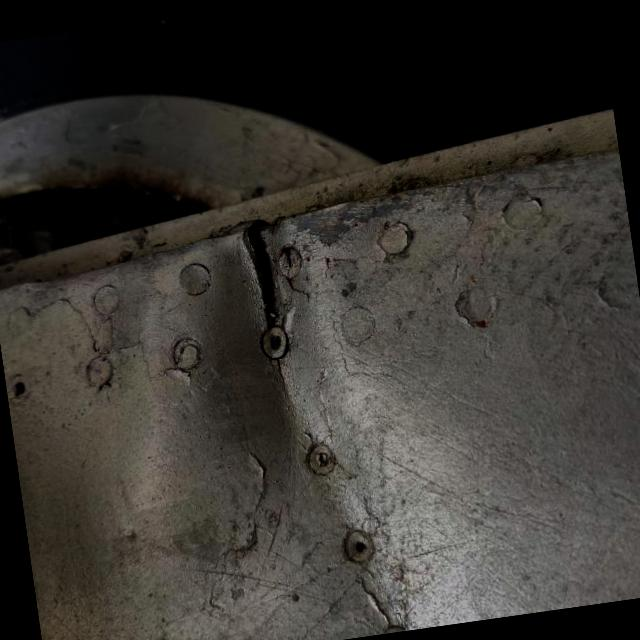crack: (208, 204, 318, 345)
